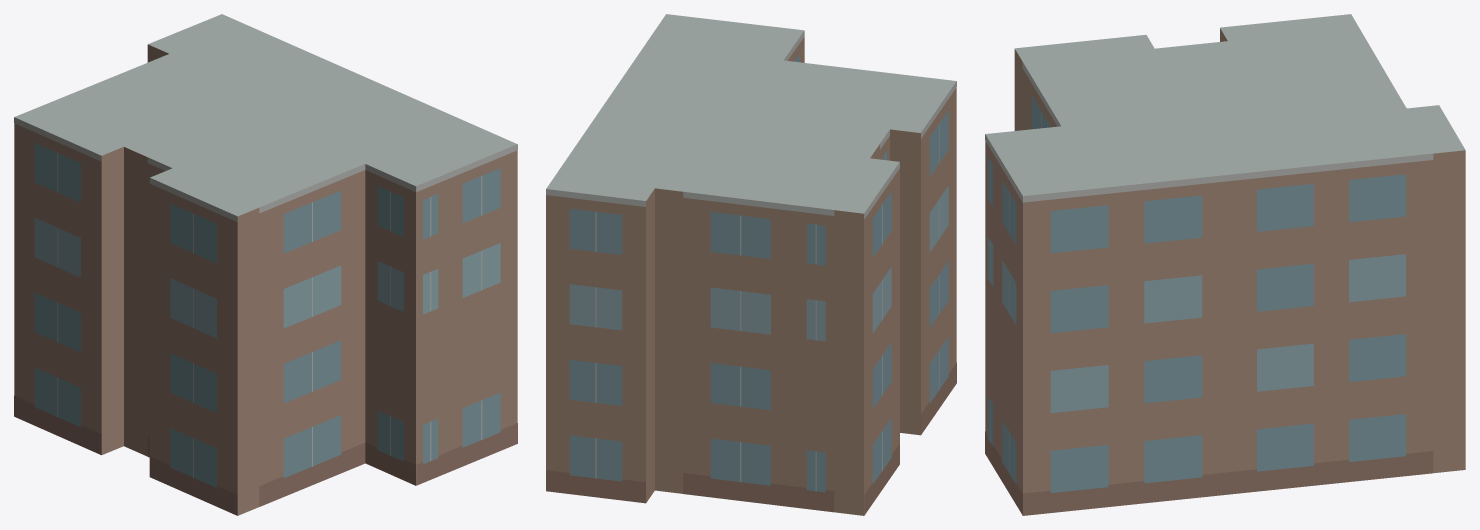
Rendered from survey-upis-32850692.glb.
The picture shows the model from 3 angles, left to right: view 1: azimuth 30°, elevation 25°; view 2: azimuth 150°, elevation 25°; view 3: azimuth 270°, elevation 25°; orthographic projection. The views are drawn at different scales.
Parts seen in each view (by area): view 1: survey-upis-32850692.tmp; view 2: survey-upis-32850692.tmp; view 3: survey-upis-32850692.tmp.
Boxes of the visible parts, x1=… form: survey-upis-32850692.tmp: x1=14, y1=14, x2=517, y2=515; survey-upis-32850692.tmp: x1=546, y1=14, x2=956, y2=515; survey-upis-32850692.tmp: x1=985, y1=14, x2=1465, y2=515.
Size of the model in its own units: 15.05 by 12.3 by 16.77.
